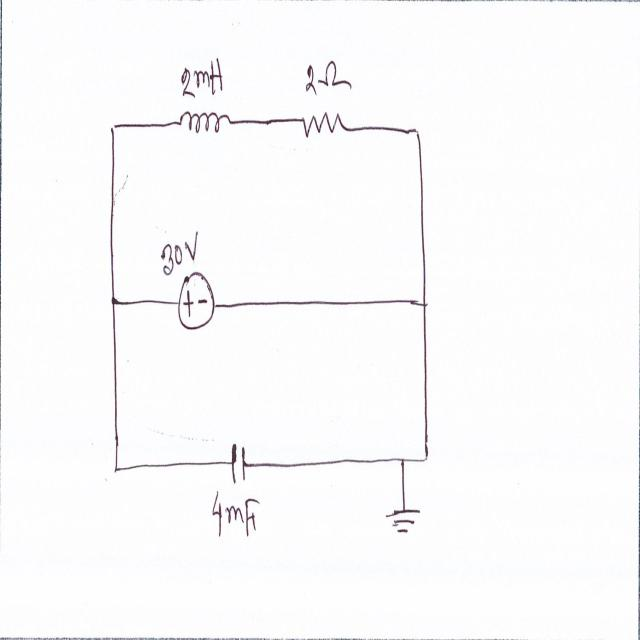capacitor: (228, 435, 248, 488)
ground: (386, 497, 422, 546)
inductor: (180, 108, 233, 141)
resistor: (300, 109, 348, 143)
voltage_source: (178, 271, 214, 330)
